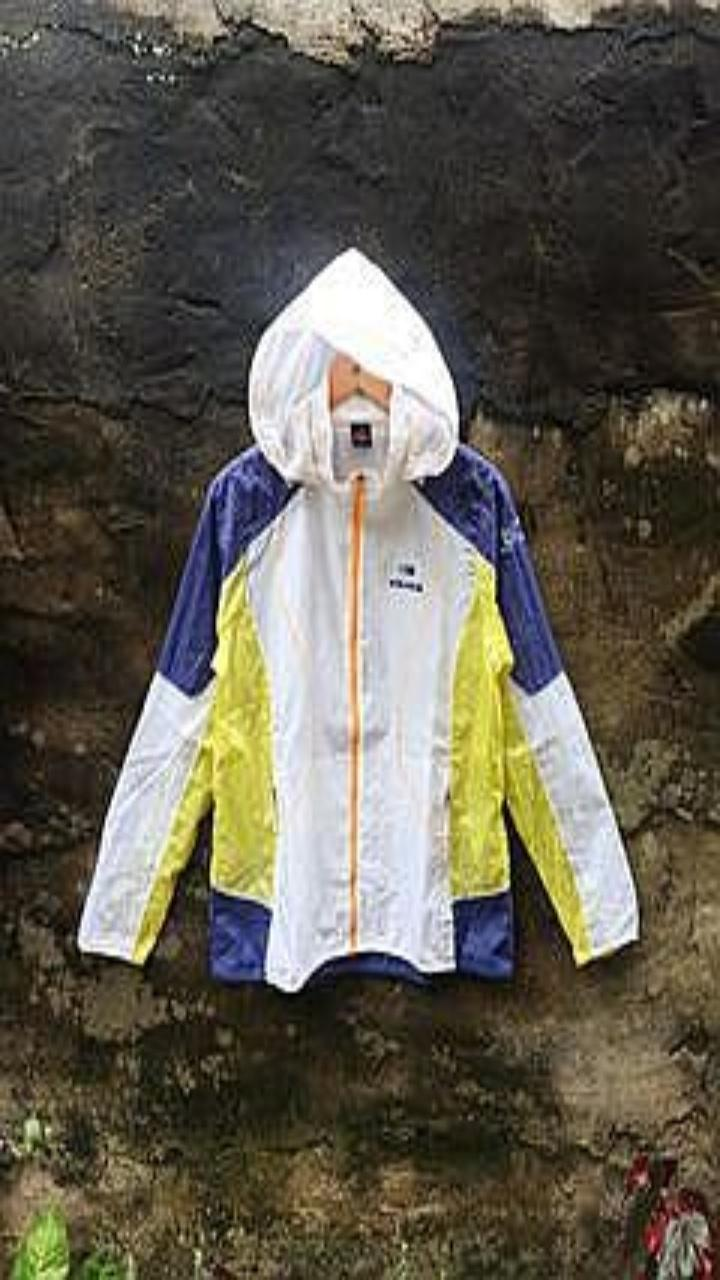Sports_Jacket: (78, 247, 638, 990)
